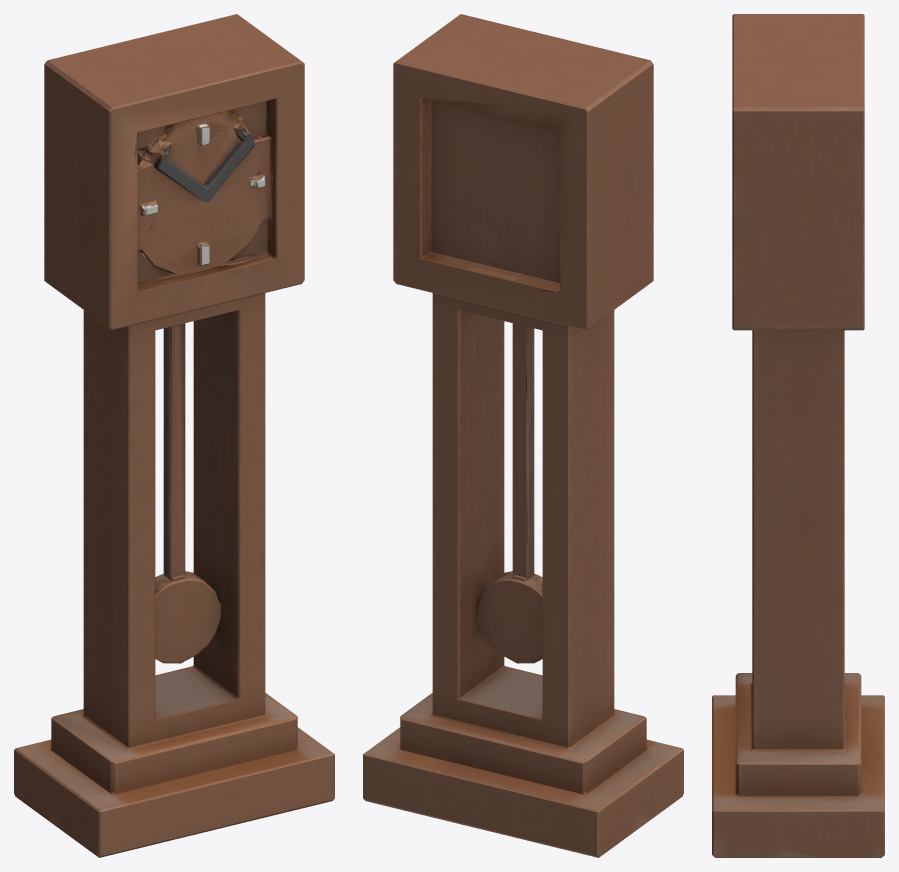
File: gclock.fbx
3 renders of one model, left to right at view 1: azimuth 30°, elevation 25°; view 2: azimuth 150°, elevation 25°; view 3: azimuth 270°, elevation 25°, orthographic.
Visible parts, largest first — view 1: Mesh_0; view 2: Mesh_0; view 3: Mesh_0.
Boxes of the visible parts, box(x1,y1,x2,y2) form: Mesh_0: box(14, 14, 334, 857); Mesh_0: box(363, 14, 683, 857); Mesh_0: box(712, 14, 884, 857).
Size of the model in its own units: 1.86 by 5.56 by 1.18.
Materials: 1 (1 with a texture image).
